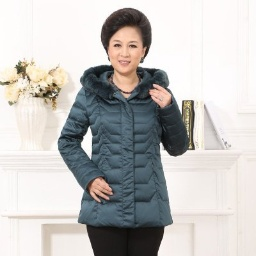face: (102, 7, 152, 75)
